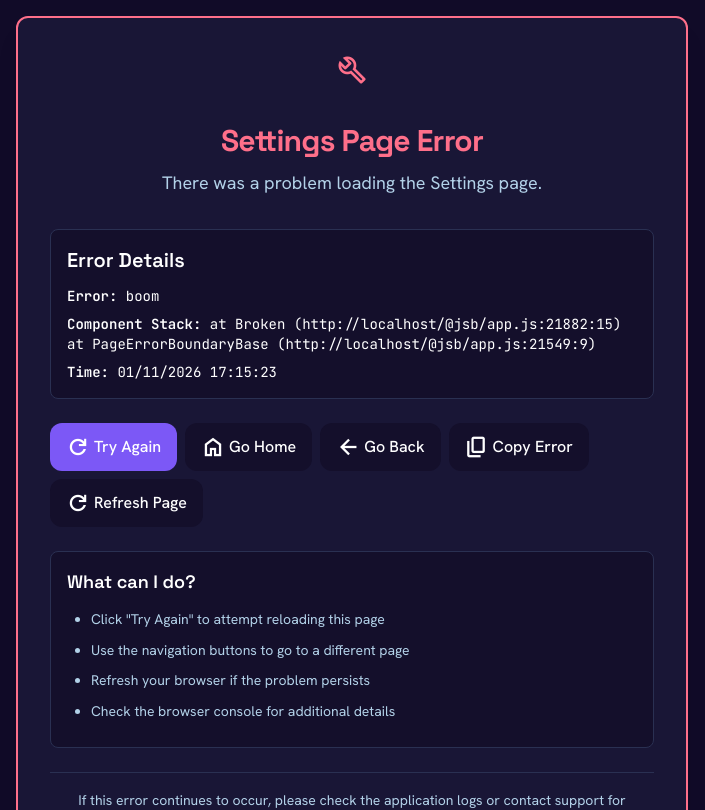
Scenario: PageErrorBoundary › clears the copy-status timer on unmount
This screenshot has width=705, height=810.
Click the button "Copy Error" at (519, 447), box left=449, top=423, right=589, bottom=471
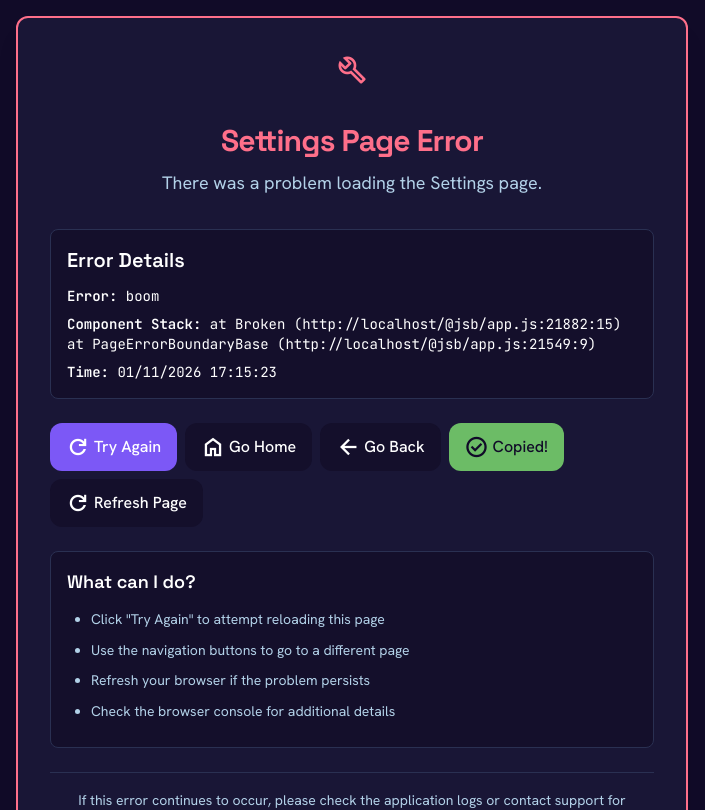
Expected: the button "Copied!" is shown, left=449, top=423, right=564, bottom=471
